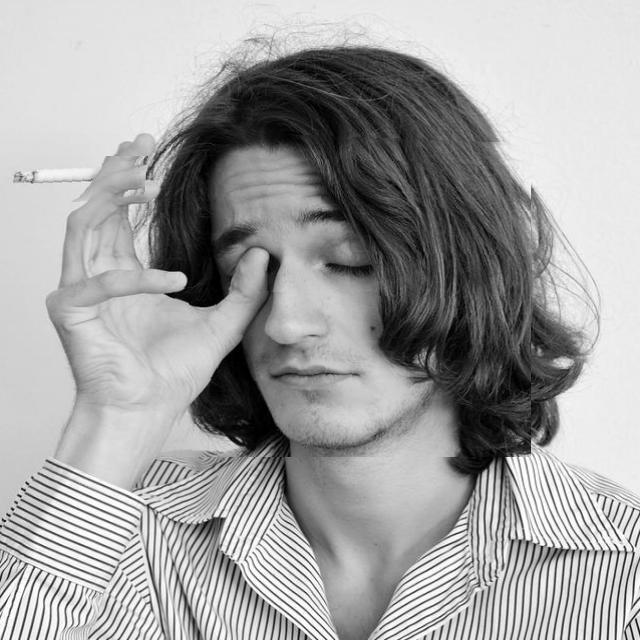cigarette: (2, 156, 149, 210)
